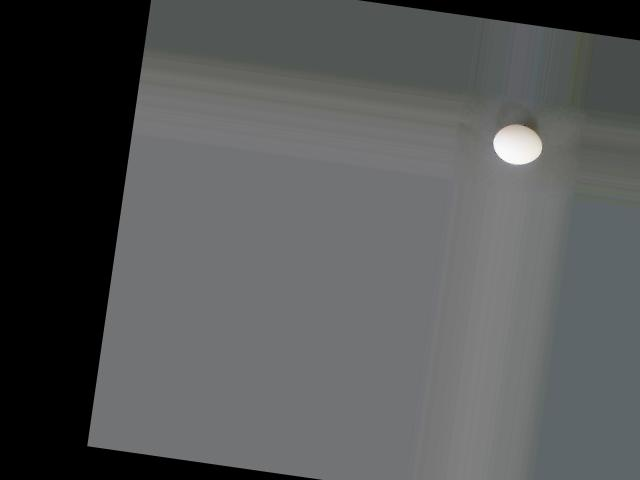egg: (492, 121, 545, 167)
